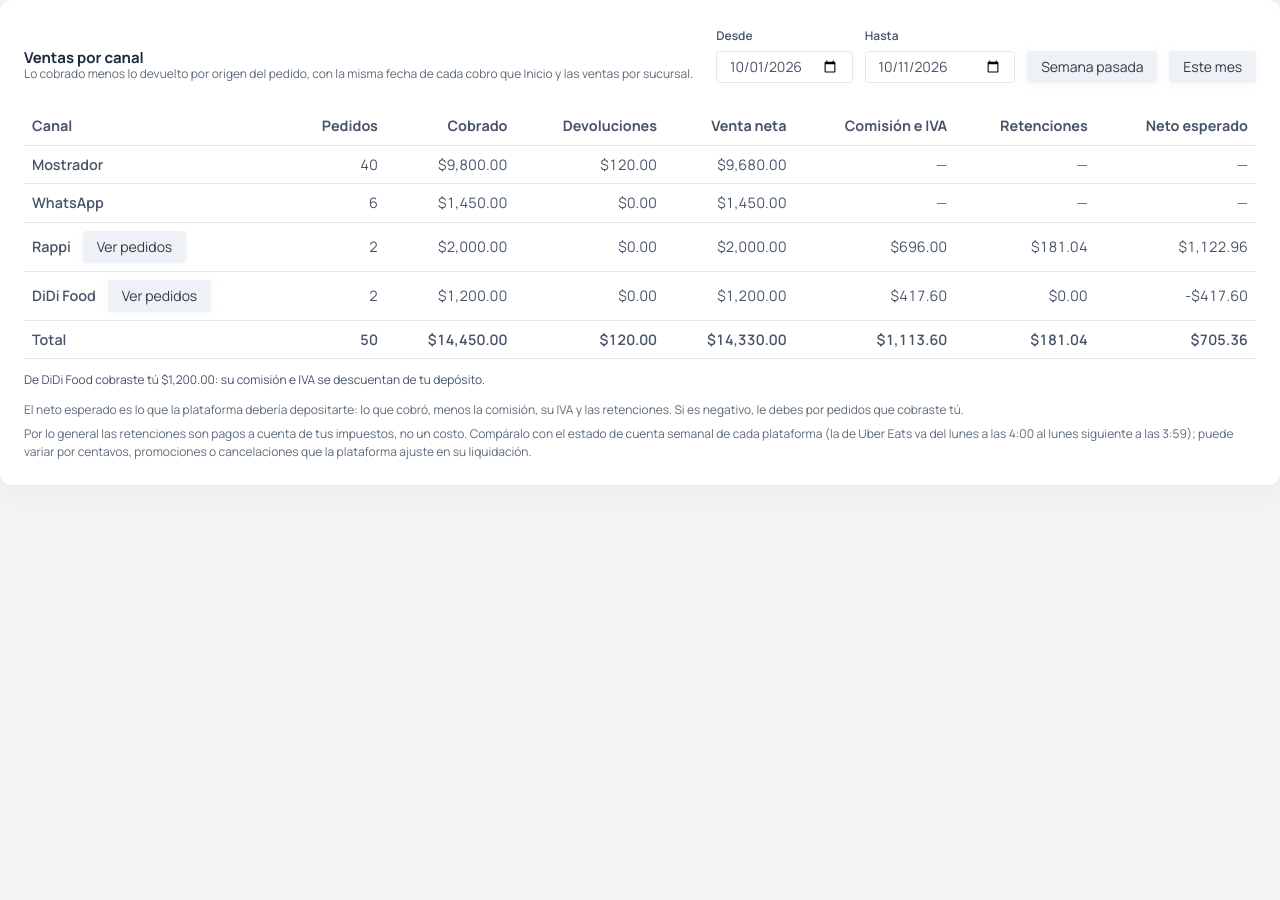
SalesByChannelCard › searches a folio of the statement on the server, over every page of the platform
The image size is (1280, 900).
Click the button with aria-label "Ver pedidos de Rappi".
click(134, 247)  # box [83,231,186,263]
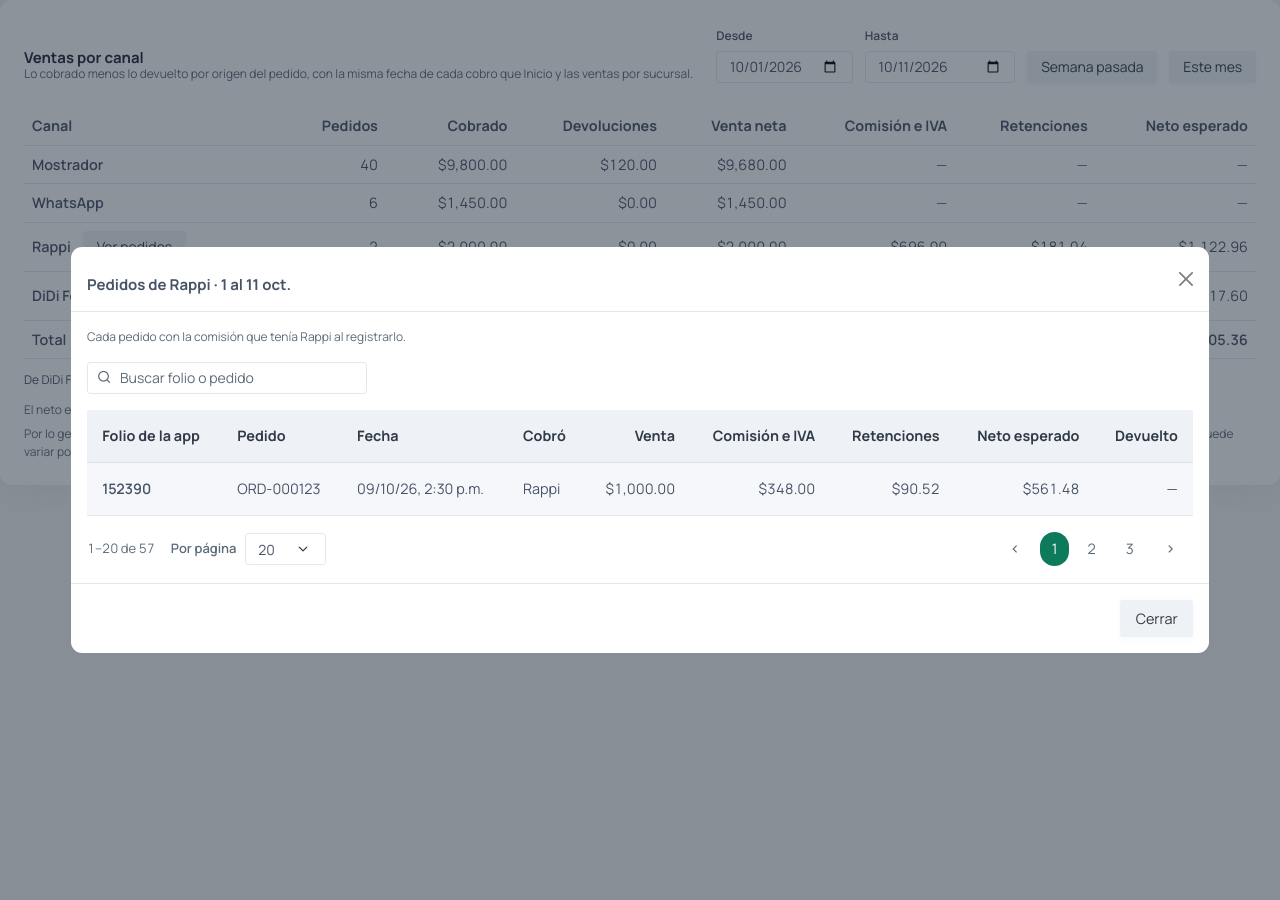
Result: the cell "152390" is shown at [87,462,222,515]
Type "#bc 953" into the search field.
click(227, 378); type("#bc 953")  # box [87,362,367,394]
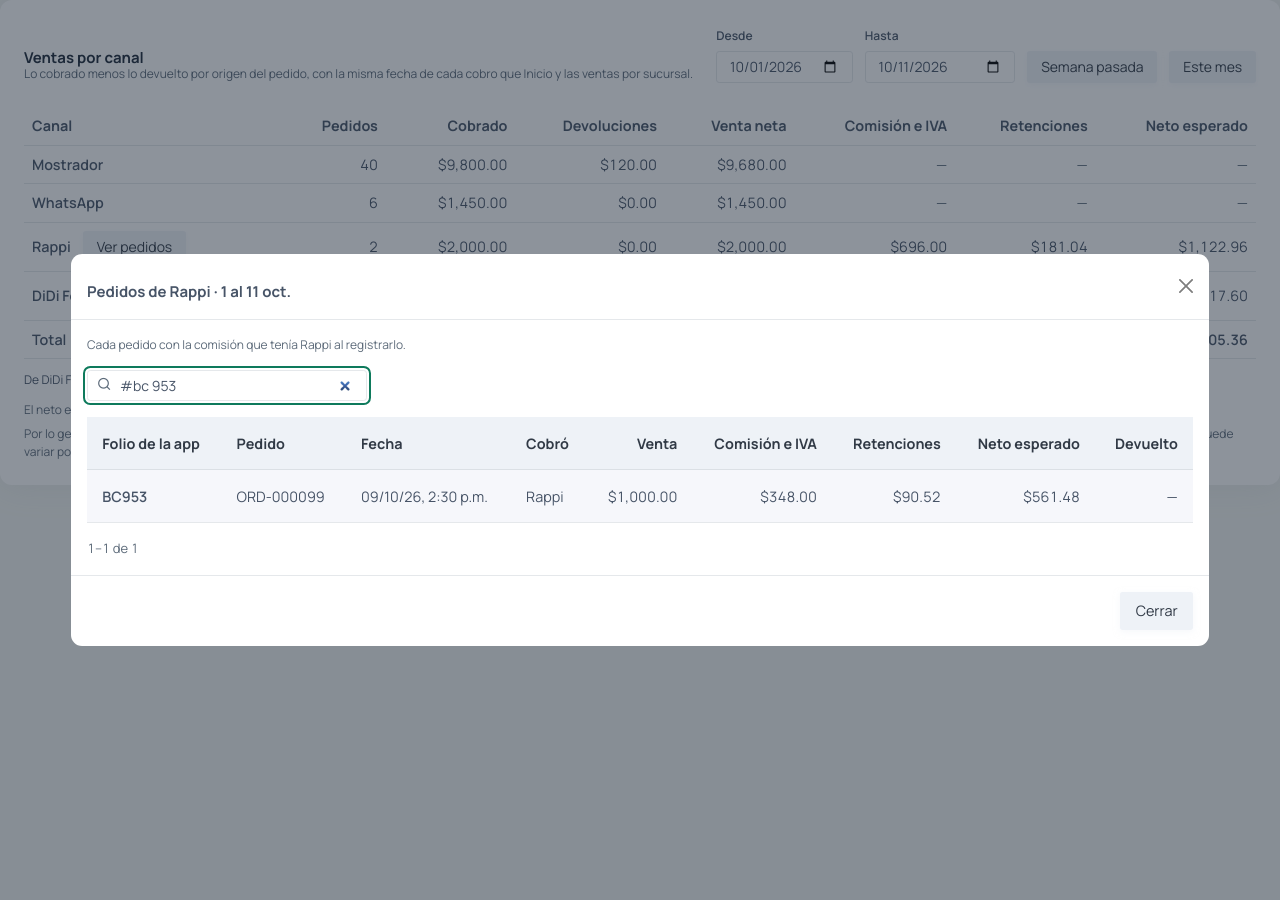
Result: the cell "BC953" is shown at [87,470,221,523]
